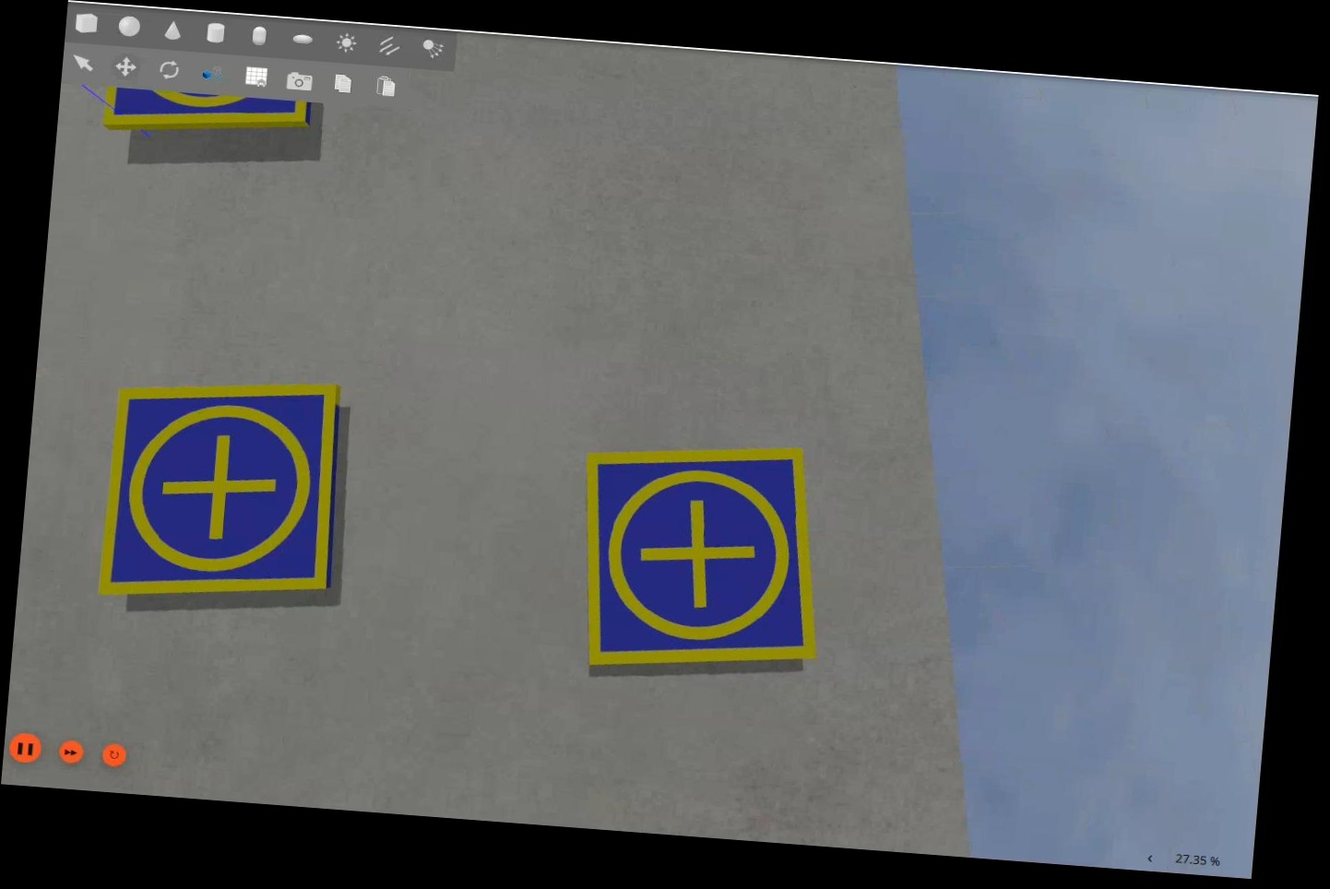small_base: (571, 433, 835, 682), (101, 369, 347, 612), (102, 84, 315, 142)
